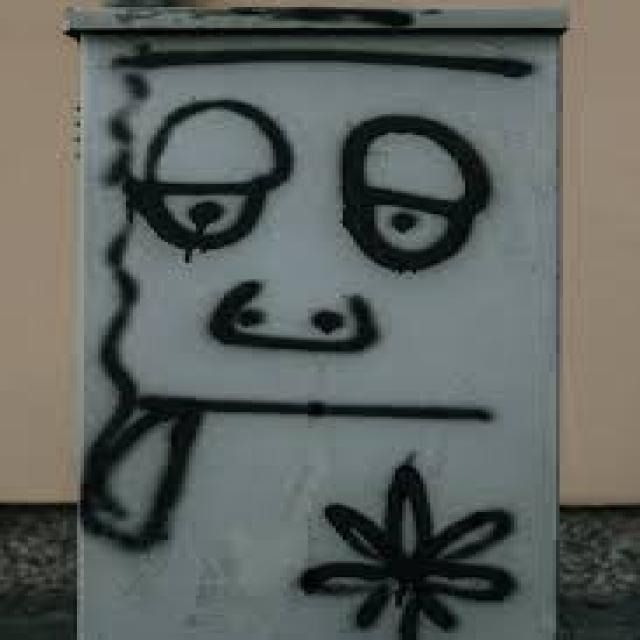-: (81, 49, 536, 636)
